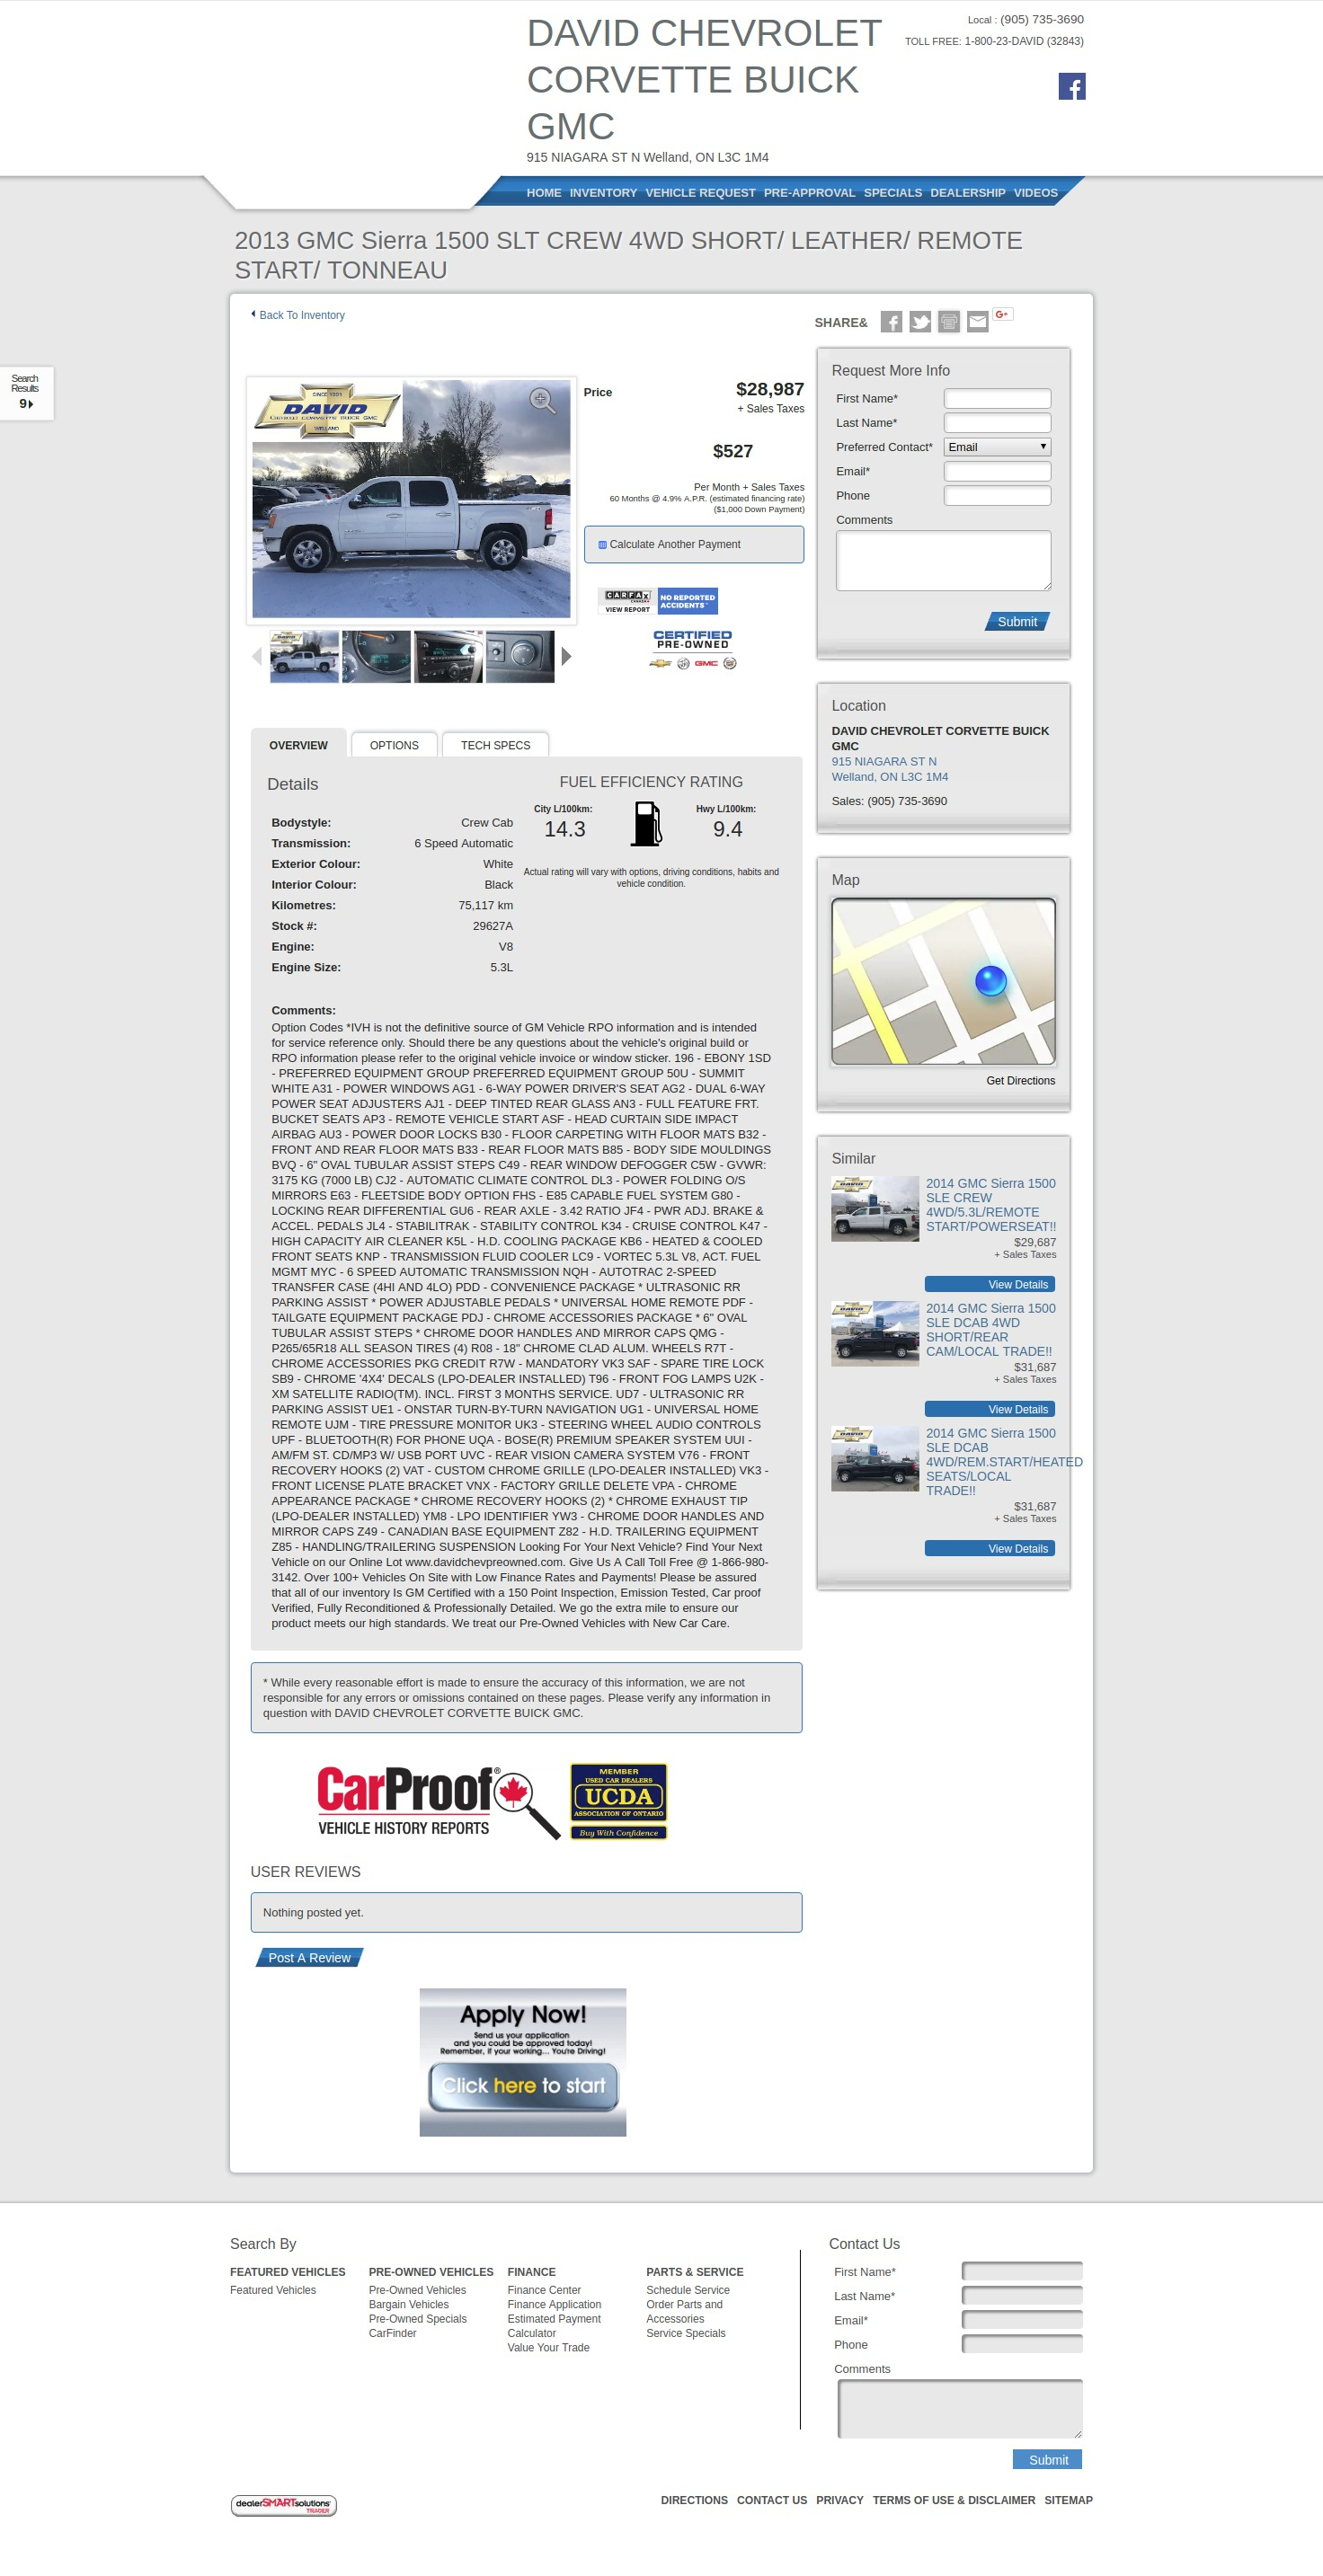car: (562, 646, 572, 668)
